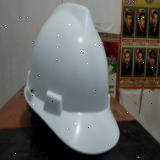Helmet: (24, 2, 120, 154)
